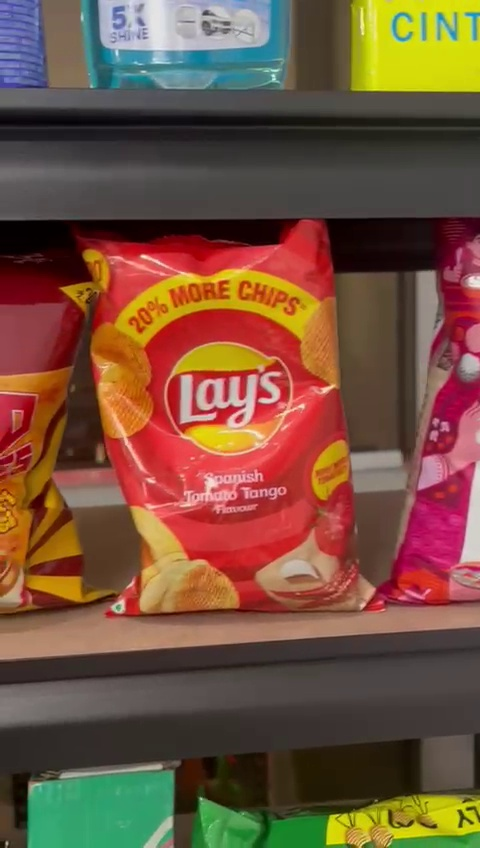Lays: (80, 241, 355, 620)
